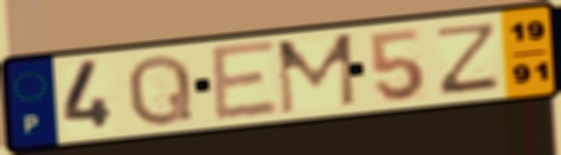4: (59, 56, 121, 137)
5: (366, 26, 429, 104)
E: (207, 38, 282, 126)
M: (274, 30, 360, 118)
Q: (126, 51, 197, 129)
Z: (436, 19, 502, 98)
